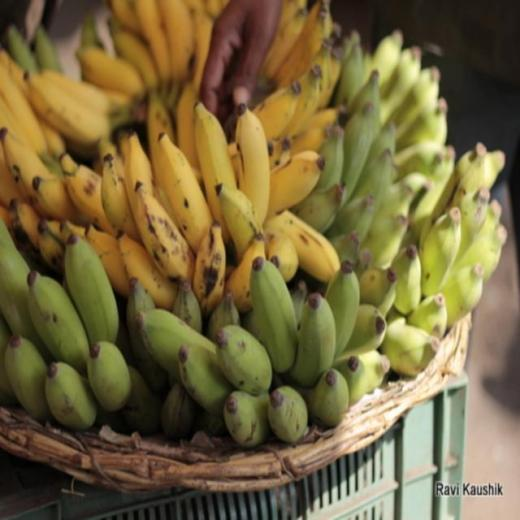Banana: (0, 0, 508, 444), (248, 252, 300, 372)
